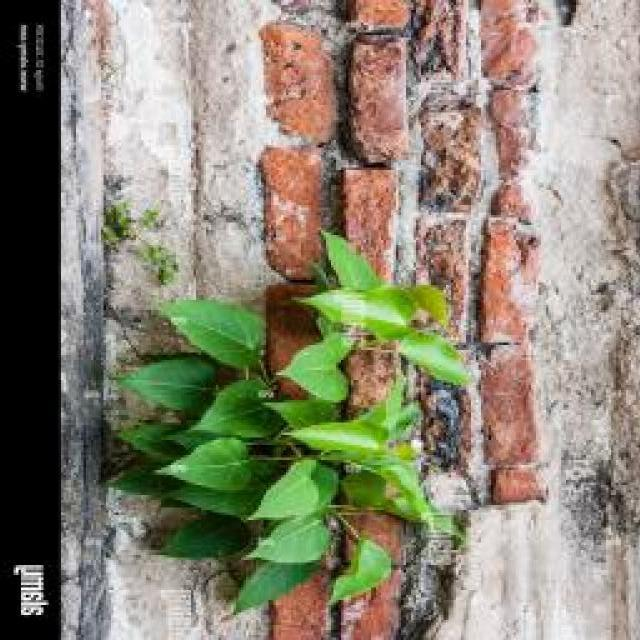Crack: (63, 0, 638, 638)
